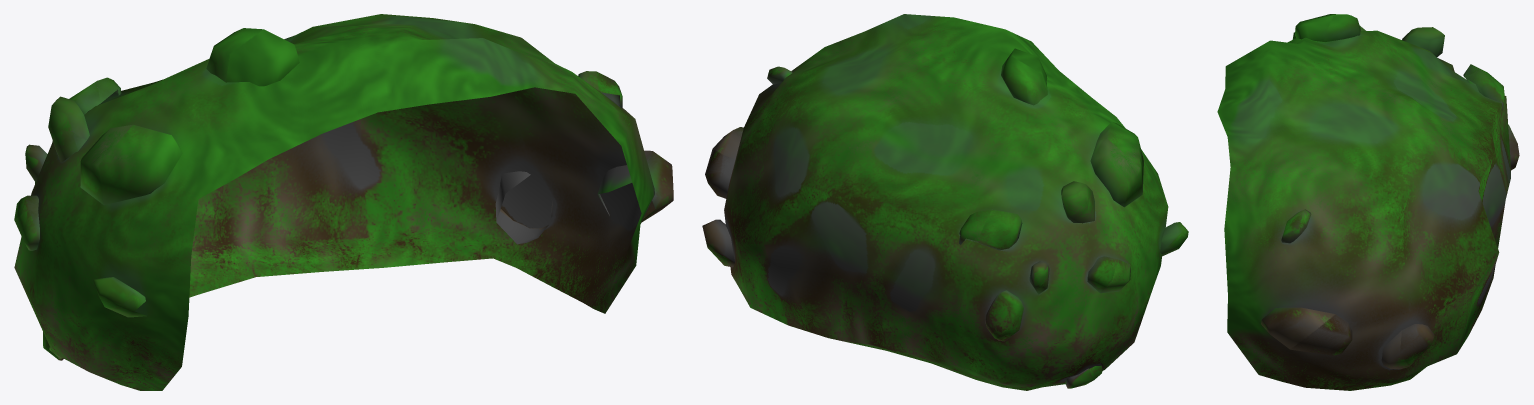
The model's file is MossFrame5.fbx.
3 views of the same model, side by side, from view 1: azimuth 30°, elevation 25°; view 2: azimuth 150°, elevation 25°; view 3: azimuth 270°, elevation 25° (orthographic). The views are drawn at different scales.
Parts seen in each view (by area): view 1: MossStone4; view 2: MossStone4; view 3: MossStone4.
Part boxes in pixels (<box>): MossStone4: <box>14,14,673,390</box>; MossStone4: <box>702,14,1188,390</box>; MossStone4: <box>1217,14,1519,390</box>.
Bounding box in the file's own units: 425 × 241 × 248.
